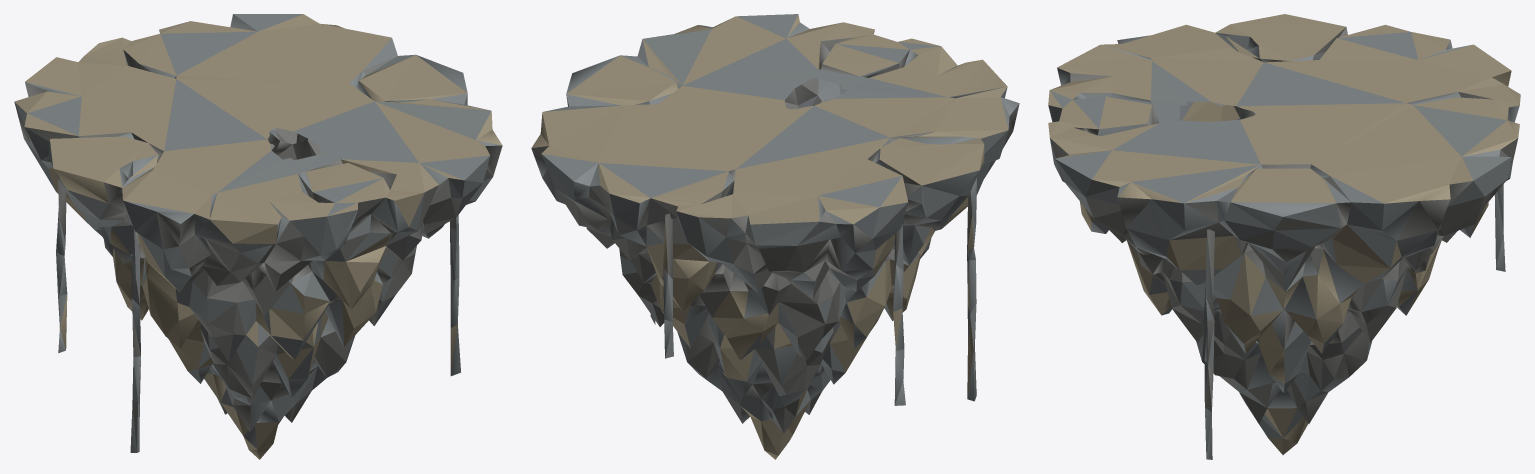
File: island_underside.glb
The picture shows the model from 3 angles, left to right: view 1: azimuth 30°, elevation 25°; view 2: azimuth 150°, elevation 25°; view 3: azimuth 270°, elevation 25°; orthographic projection.
Visible parts, largest first — view 1: Mesh_0; view 2: Mesh_0; view 3: Mesh_0.
Part boxes in pixels (left/top/right/bottom): Mesh_0: left=14, top=14, right=502, bottom=459; Mesh_0: left=531, top=14, right=1019, bottom=459; Mesh_0: left=1048, top=14, right=1520, bottom=459.
Bounding box in the file's own units: 2 × 1.6 × 2.
